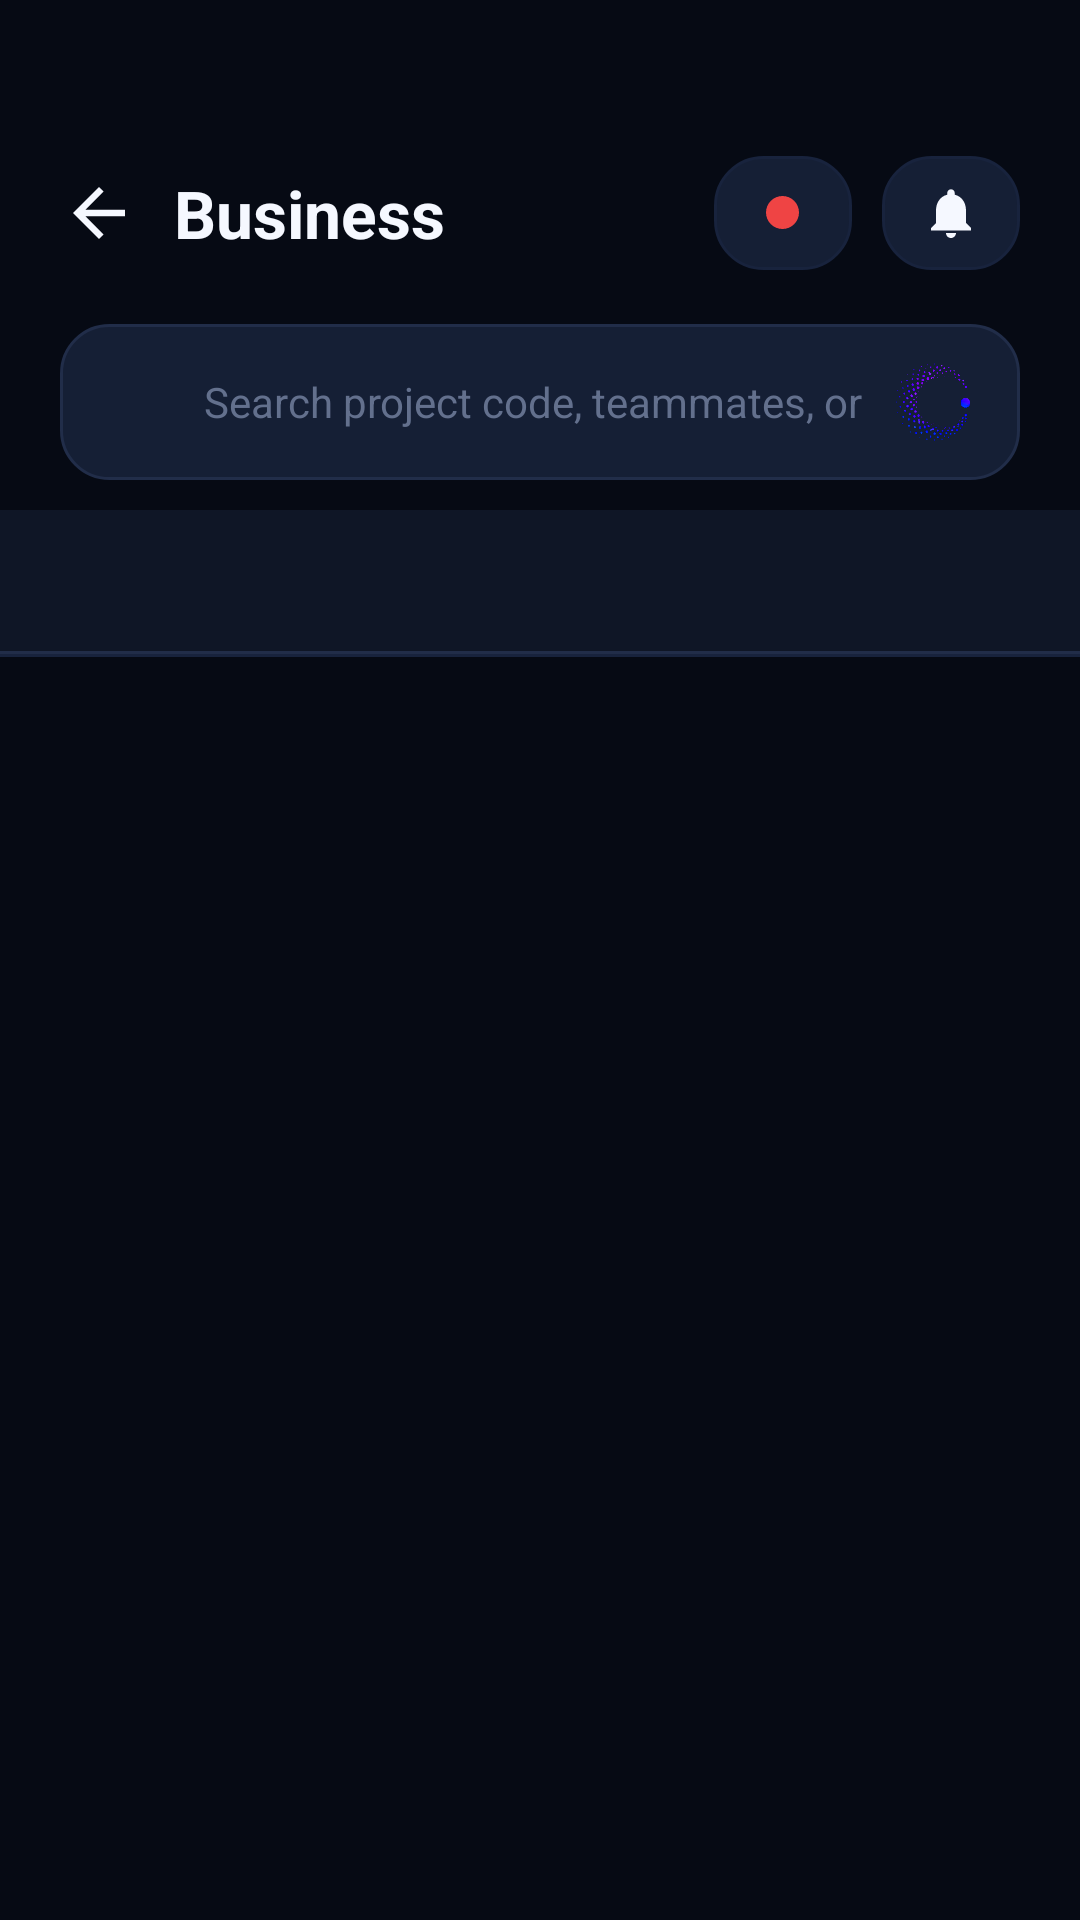

Icons on this 1080×1920 Android screen, each with the point to tap as [x,y]:
arrow back: [99,213]
bell: [951,213]
